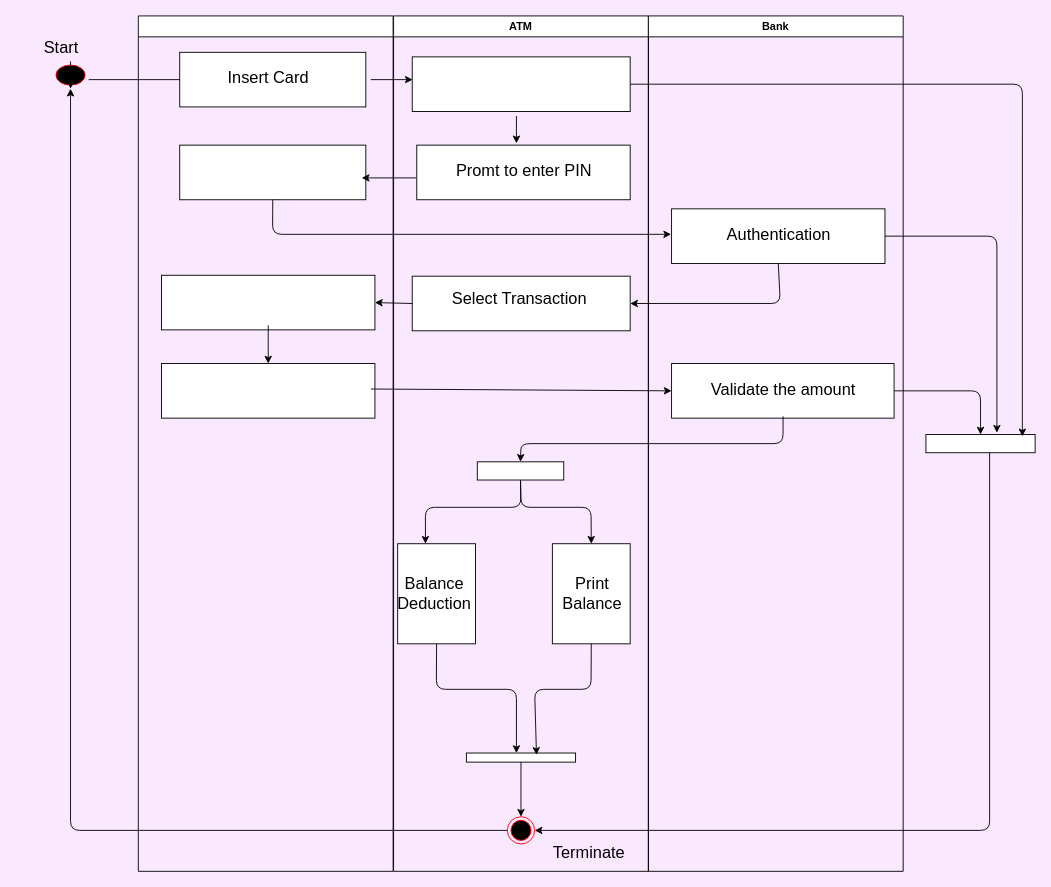
This 1051x887 diagram has some shape labels left out. Each missing label, with the box of its shape:
Customer: (137, 15, 393, 871)
Enter Account: (161, 274, 375, 330)
Enter PIN: (179, 144, 366, 200)
Enter the amount: (161, 363, 375, 418)
Read the Card: (411, 56, 630, 111)
